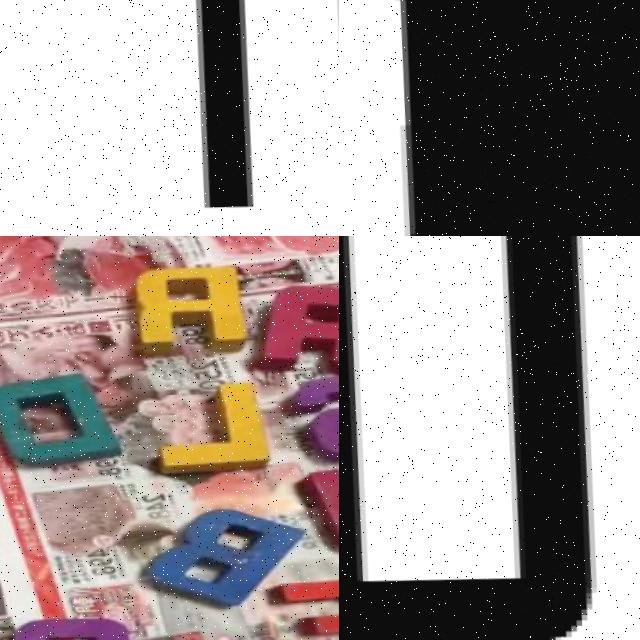A: (252, 283, 339, 374)
B: (136, 509, 298, 611)
D: (0, 373, 113, 466)
E: (269, 576, 339, 640)
G: (0, 618, 121, 640)
H: (165, 0, 339, 218)
L: (339, 0, 640, 236), (152, 384, 258, 477)
R: (122, 268, 241, 359)
S: (287, 371, 339, 461)
U: (299, 459, 339, 557)
